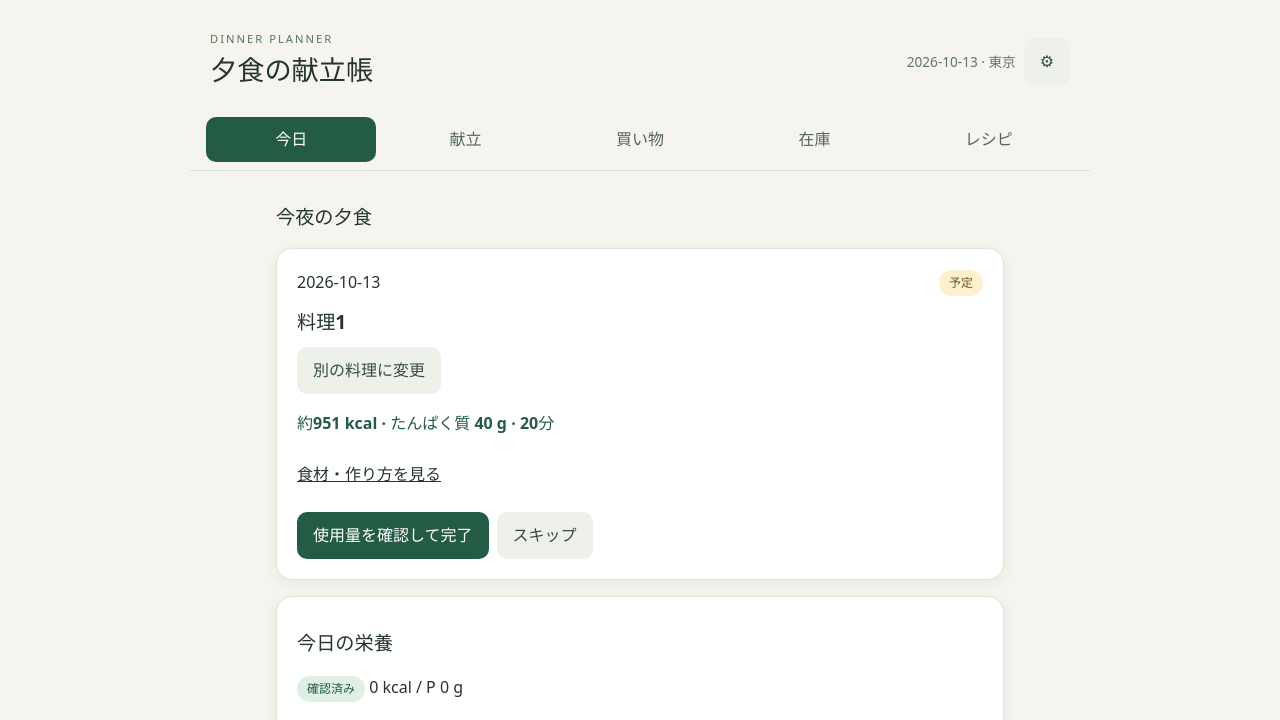
Test case: mobile daily flows › opens candidates next to the title and changes plan + shopping display without browser reload or scroll reset
Check: the heading "今夜の夕食" is shown, box [276,203,372,230]
Step 1. Click the button "別の料理に変更" → (369, 371), box [297,348,441,394]
(page scrolled)
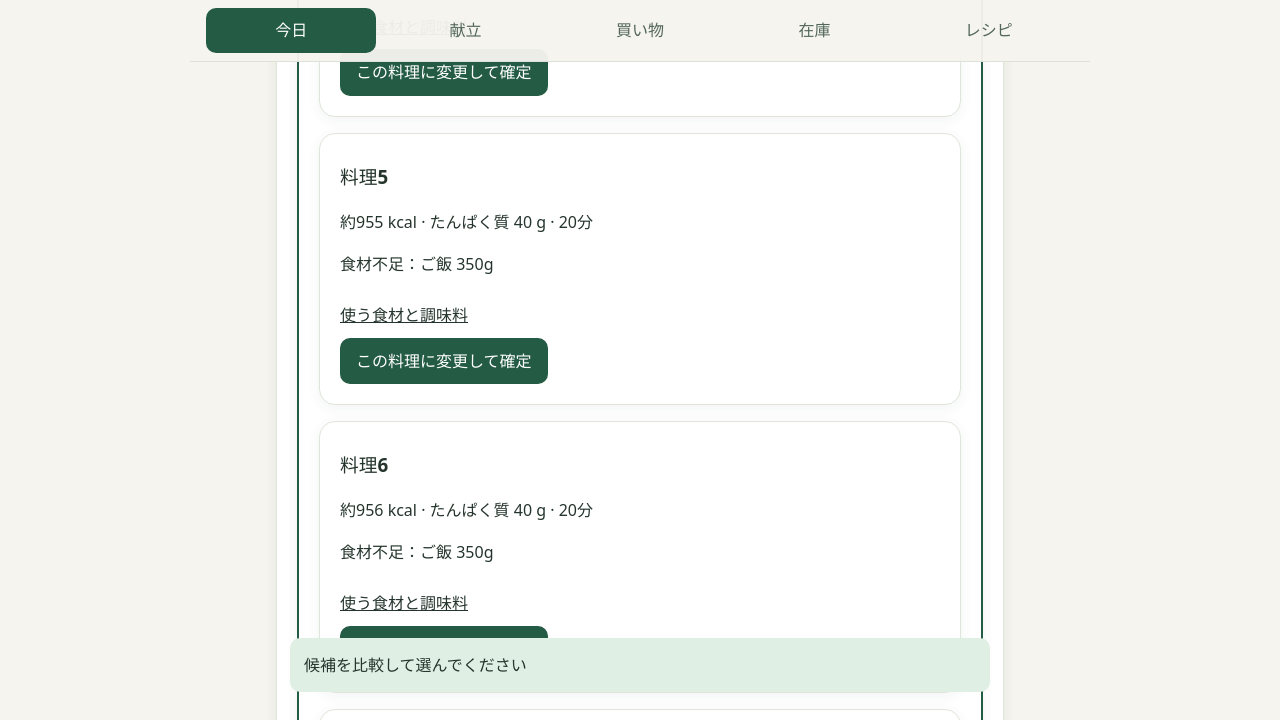
Check: the number of buttons "この料理に変更して確定" is 5
Step 2. Click the button "この料理に変更して確定" below "955" → (444, 361), box [340,338,548,384]
(page scrolled)
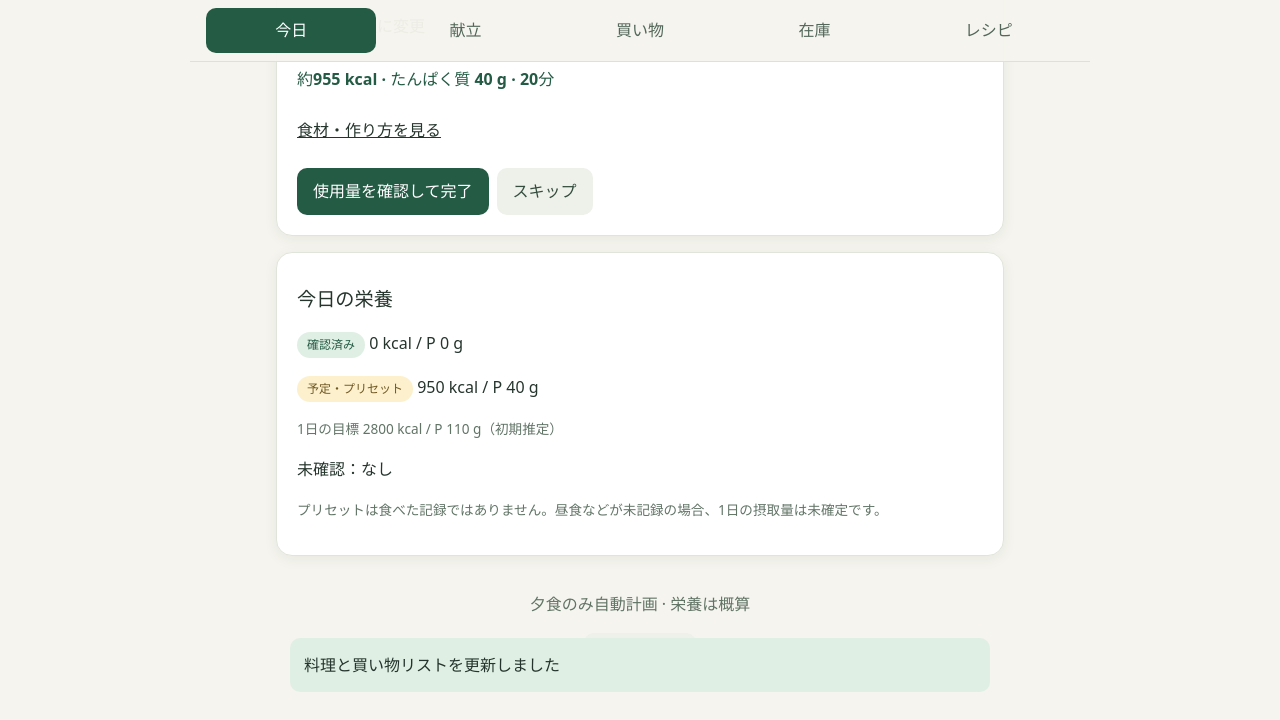
Step 3. Click the button "買い物" → (640, 30), box [555,8,725,52]
(page scrolled)
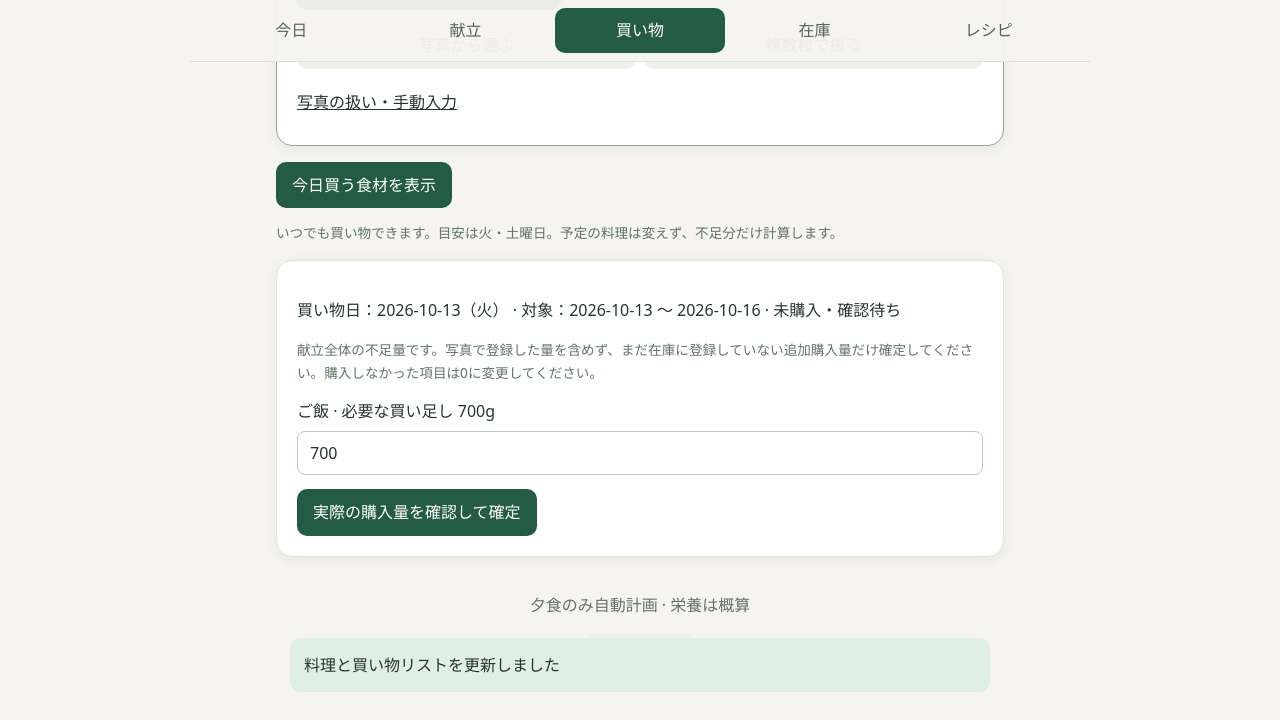
Check: the text "ご飯 · 必要な買い足し 700g" is shown, box [297,398,983,475]
